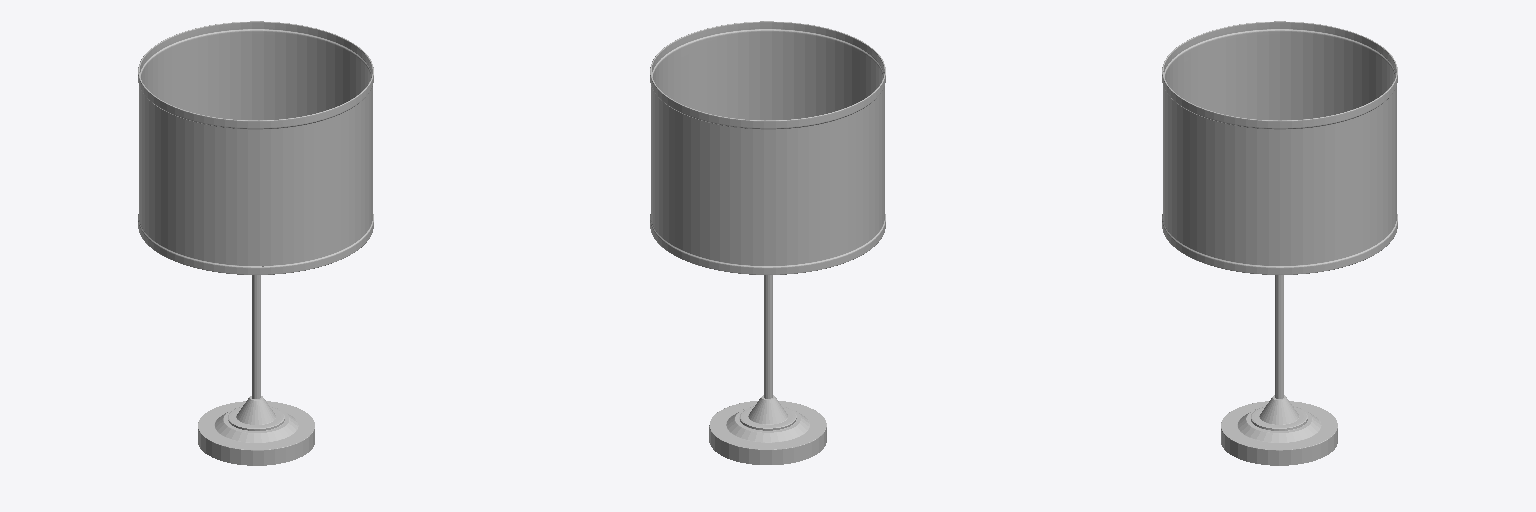
The model's file is Asta LG1.obj.
The picture shows the model from 3 angles: view 1: azimuth 30°, elevation 25°; view 2: azimuth 150°, elevation 25°; view 3: azimuth 270°, elevation 25°; orthographic projection.
Parts seen in each view (by area): view 1: Plafon.001_Cylinder.000, Metal_Cylinder.001; view 2: Plafon.001_Cylinder.000, Metal_Cylinder.001; view 3: Plafon.001_Cylinder.000, Metal_Cylinder.001.
Part boxes in pixels (x1,y1,x2,y2): Plafon.001_Cylinder.000: (138, 21, 373, 274); Metal_Cylinder.001: (198, 266, 314, 465); Plafon.001_Cylinder.000: (650, 21, 885, 274); Metal_Cylinder.001: (709, 275, 826, 464); Plafon.001_Cylinder.000: (1162, 21, 1397, 274); Metal_Cylinder.001: (1221, 275, 1337, 465).
Bounding box in the file's own units: 0.2928 × 0.5061 × 0.2928.